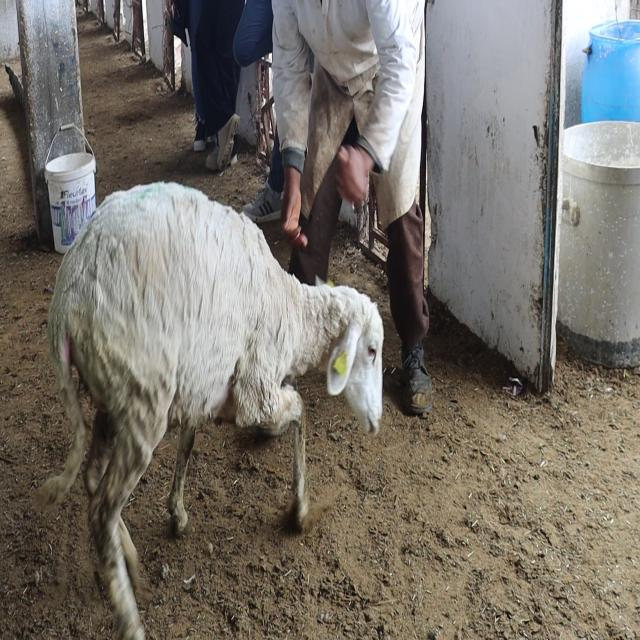Score_5: (37, 183, 384, 639)
